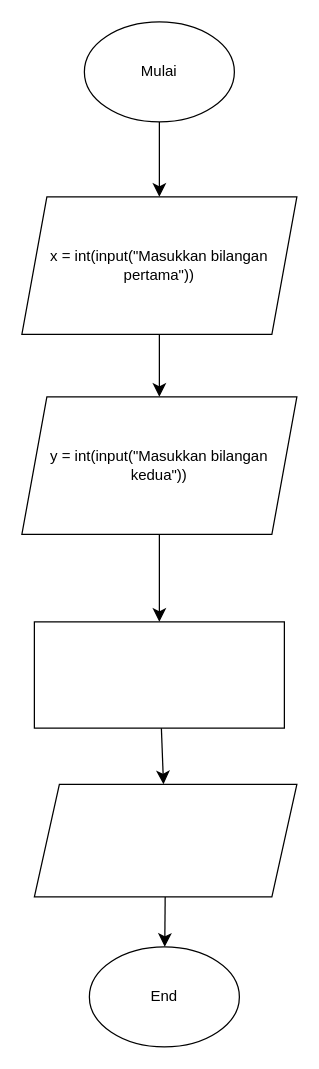
Some shapes in this 319 by 1069 pixel diagram are drawn without their labels. Here are the shapes that lost their labels. From the top down, the centre of each, then its label:
the point at 158,674: n = x + y
the point at 165,840: print(n)
